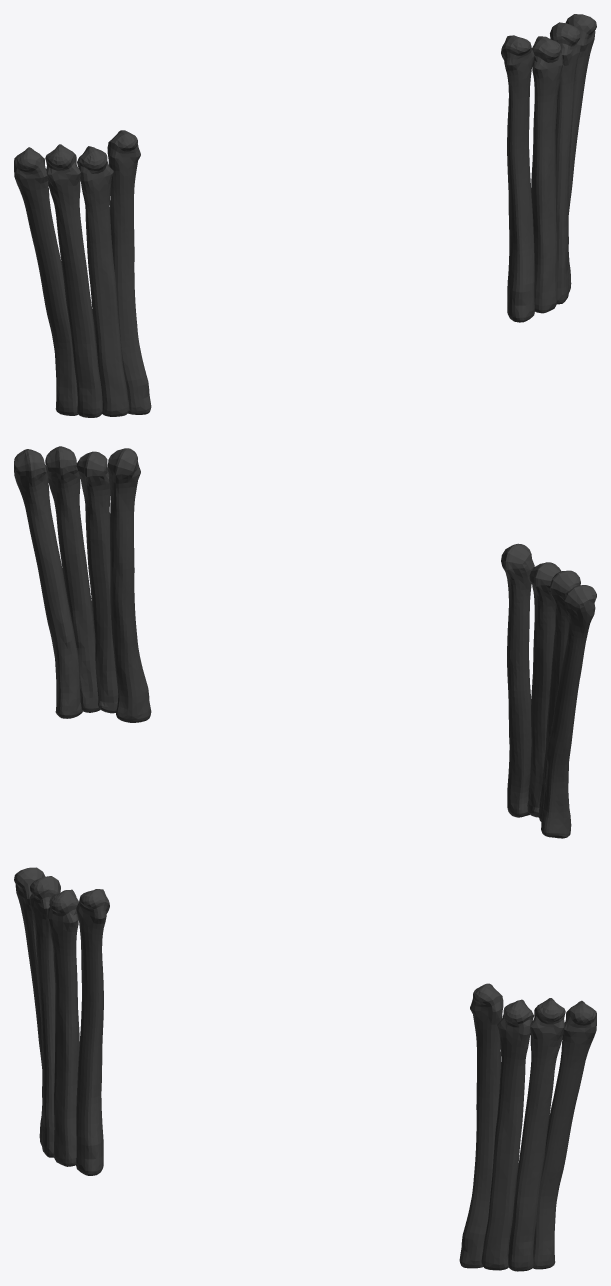
The model's file is Metatarsals_1.glb.
3 views of the same model, one above another, from view 1: azimuth 30°, elevation 25°; view 2: azimuth 150°, elevation 25°; view 3: azimuth 330°, elevation 25° (orthographic).
Parts seen in each view (by area): view 1: Metatarsals_1; view 2: Metatarsals_1; view 3: Metatarsals_1.
Part boxes in pixels (x1=…): Metatarsals_1: x1=14, y1=14, x2=596, y2=417; Metatarsals_1: x1=14, y1=446, x2=596, y2=838; Metatarsals_1: x1=14, y1=867, x2=596, y2=1271.
Bounding box in the file's own units: 0.00622 × 0.00282 × 0.000709.
1 material, 1 textured.
